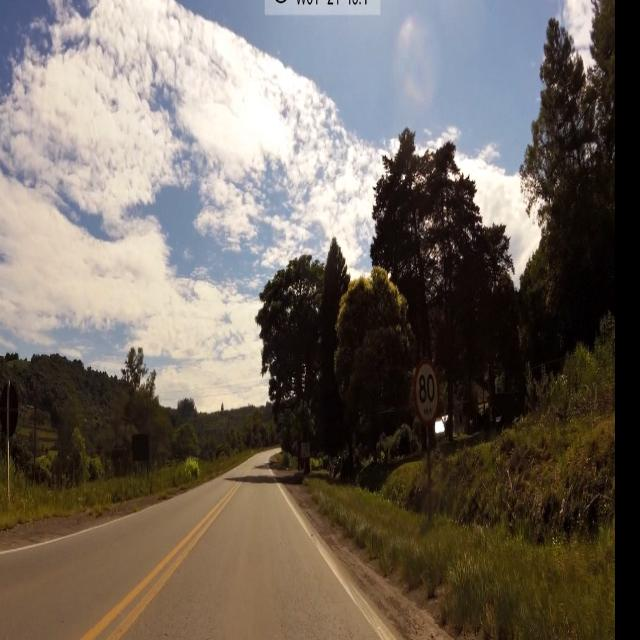R-19: (414, 361, 440, 428)
